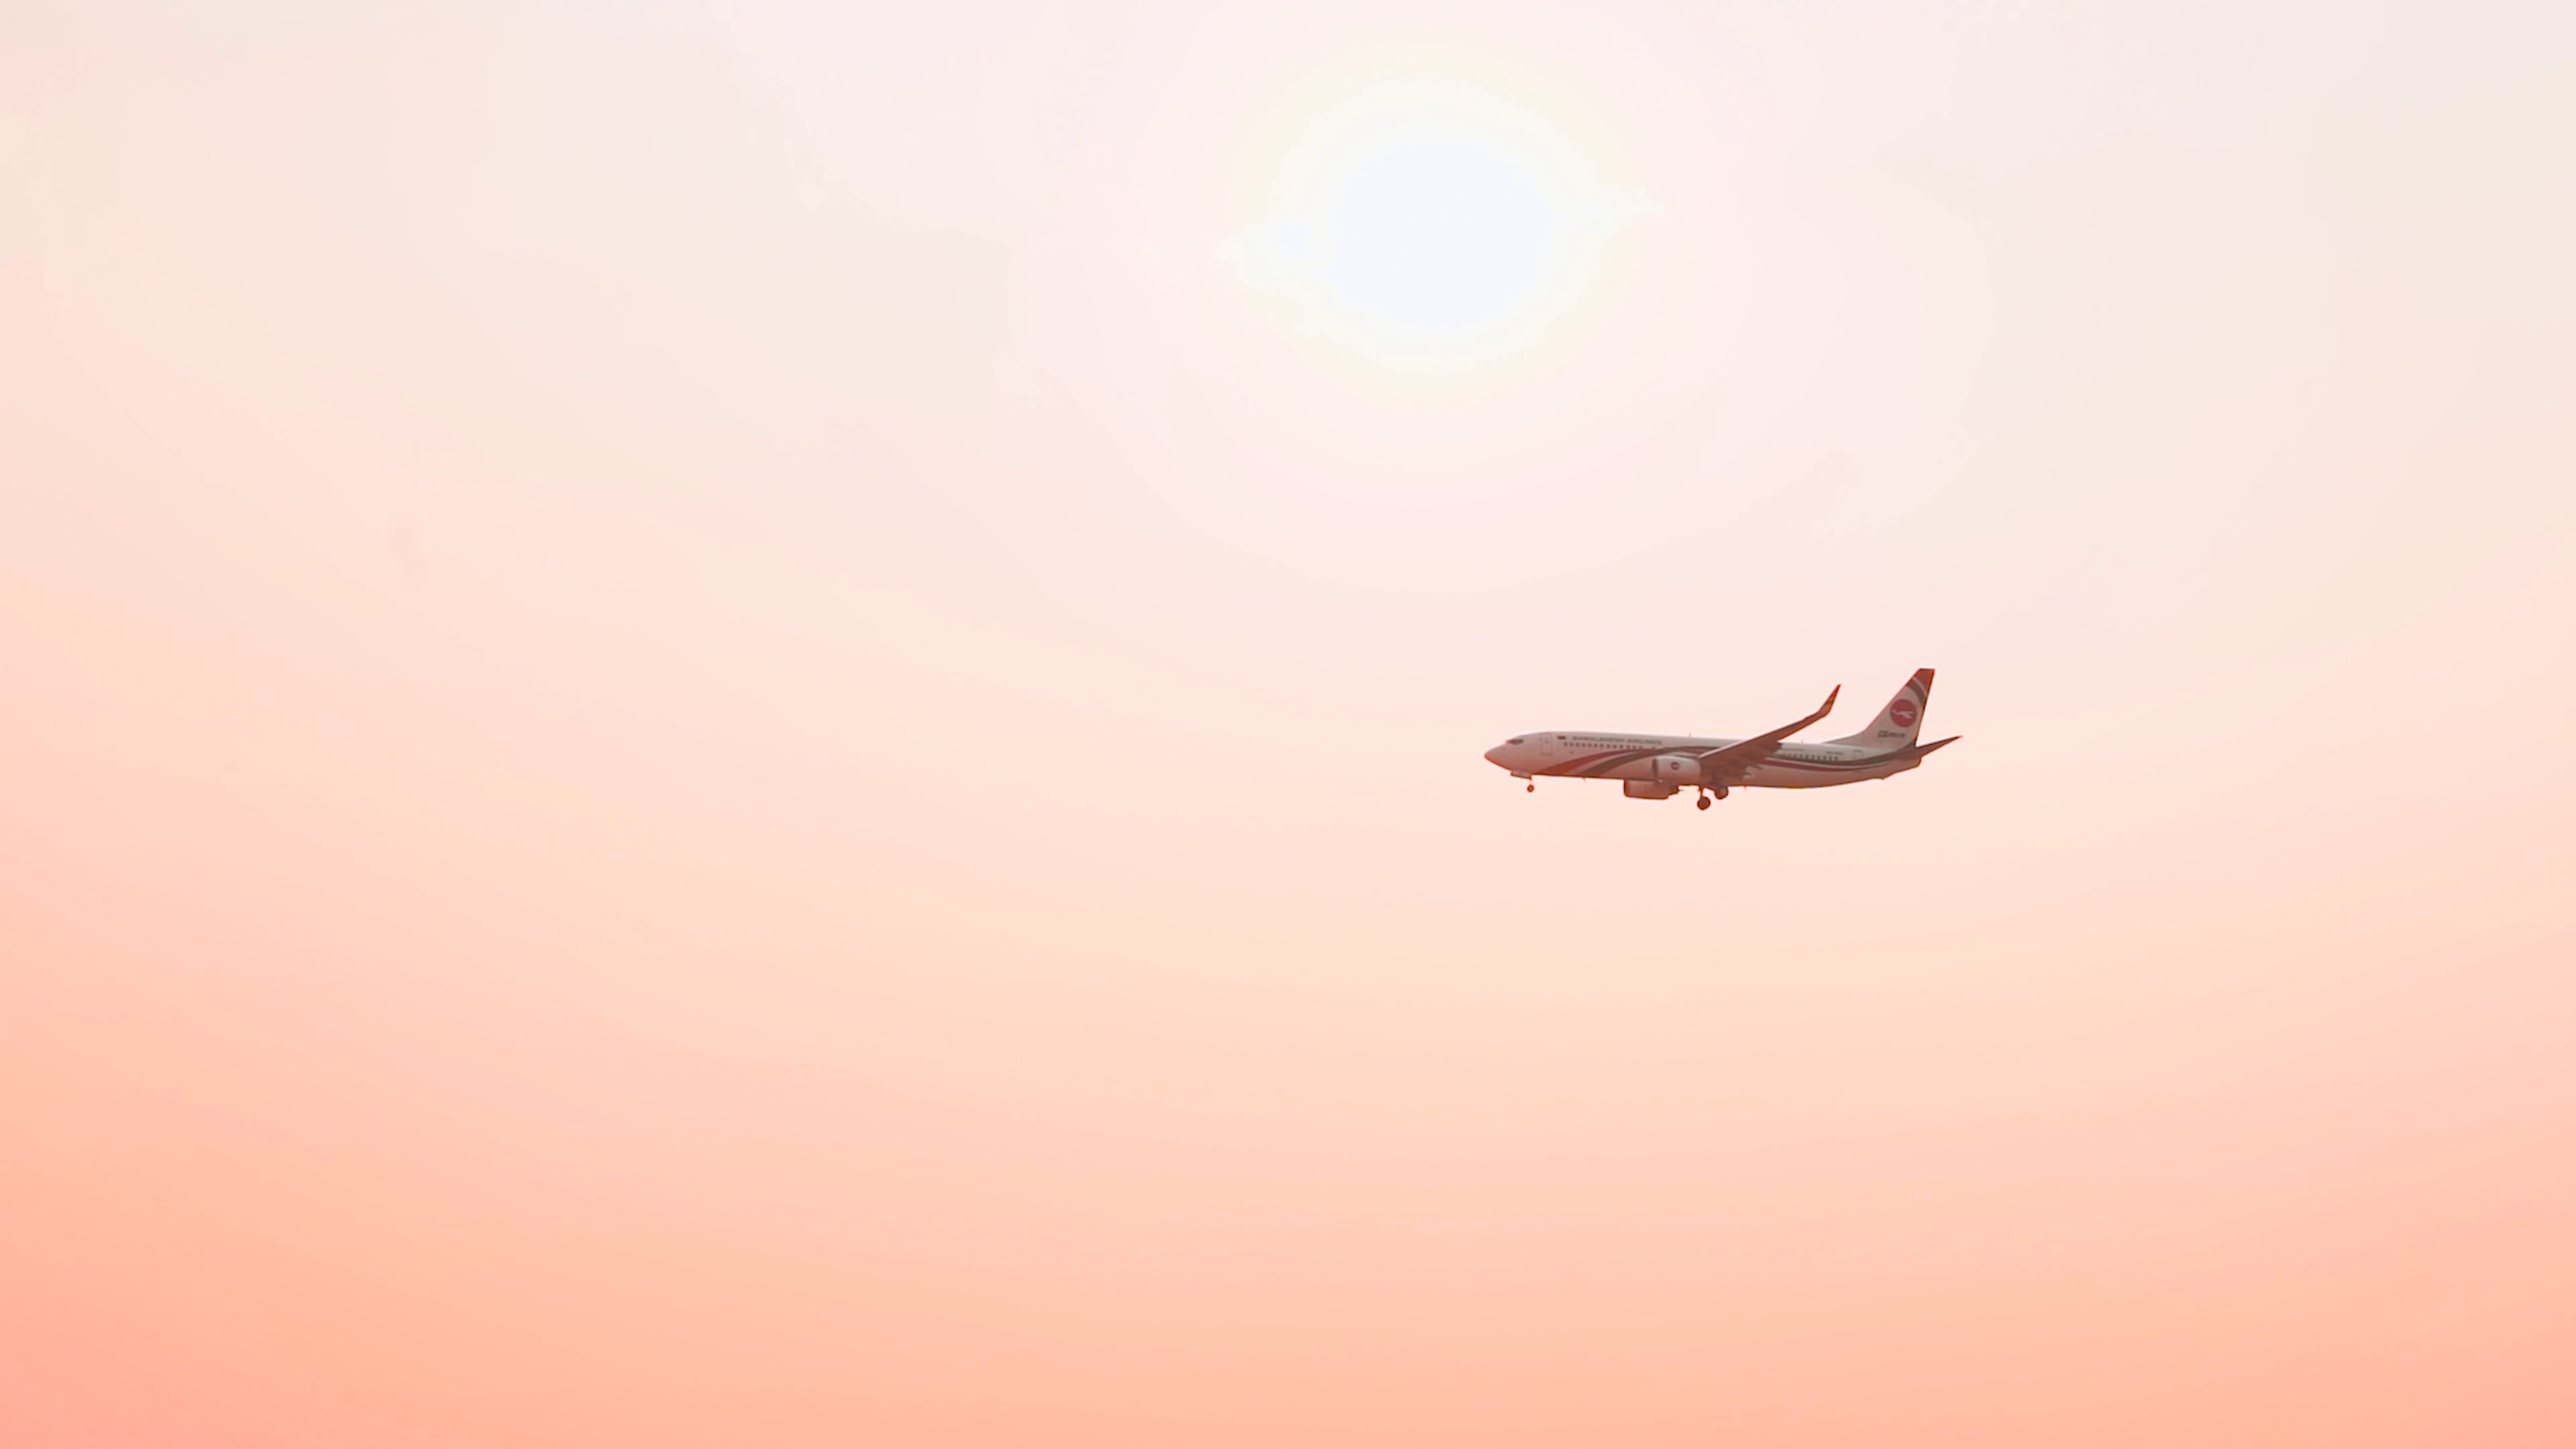plane: (1484, 669, 1962, 809)
